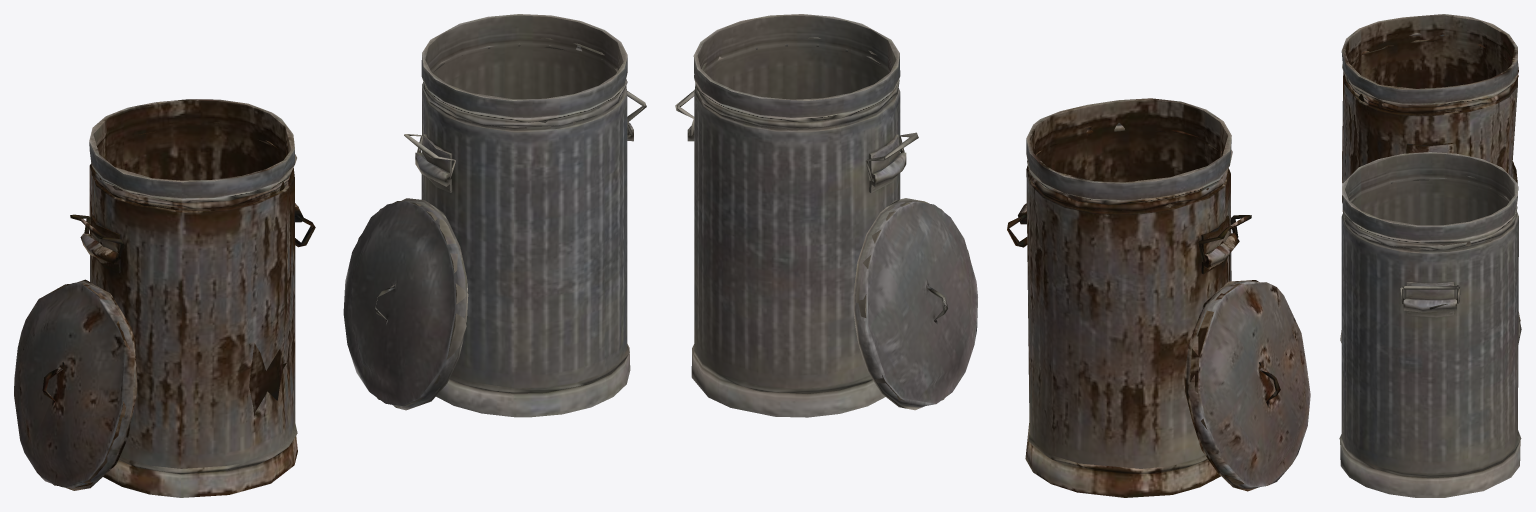
Rendered from metal_trash_can.glb.
3 views of the same model, side by side, from view 1: azimuth 30°, elevation 25°; view 2: azimuth 150°, elevation 25°; view 3: azimuth 270°, elevation 25° (orthographic). The views are drawn at different scales.
Visible parts, largest first — view 1: metal_trash_can_handle_left, metal_trash_can_rust, metal_trash_can_rust_handle_left; view 2: metal_trash_can_handle_left, metal_trash_can_rust, metal_trash_can_rust_handle_left; view 3: metal_trash_can_handle_left, metal_trash_can_rust.
Part boxes in pixels (bbox=[...]): metal_trash_can_handle_left: bbox=[343, 14, 646, 417]; metal_trash_can_rust: bbox=[80, 99, 304, 497]; metal_trash_can_rust_handle_left: bbox=[14, 214, 315, 490]; metal_trash_can_handle_left: bbox=[675, 14, 977, 417]; metal_trash_can_rust: bbox=[1018, 98, 1239, 497]; metal_trash_can_rust_handle_left: bbox=[1007, 214, 1310, 491]; metal_trash_can_handle_left: bbox=[1339, 152, 1521, 497]; metal_trash_can_rust: bbox=[1341, 14, 1520, 321].
Size of the model in its own units: 1.78 by 0.9062 by 0.5533.
2 materials, 2 textured.
